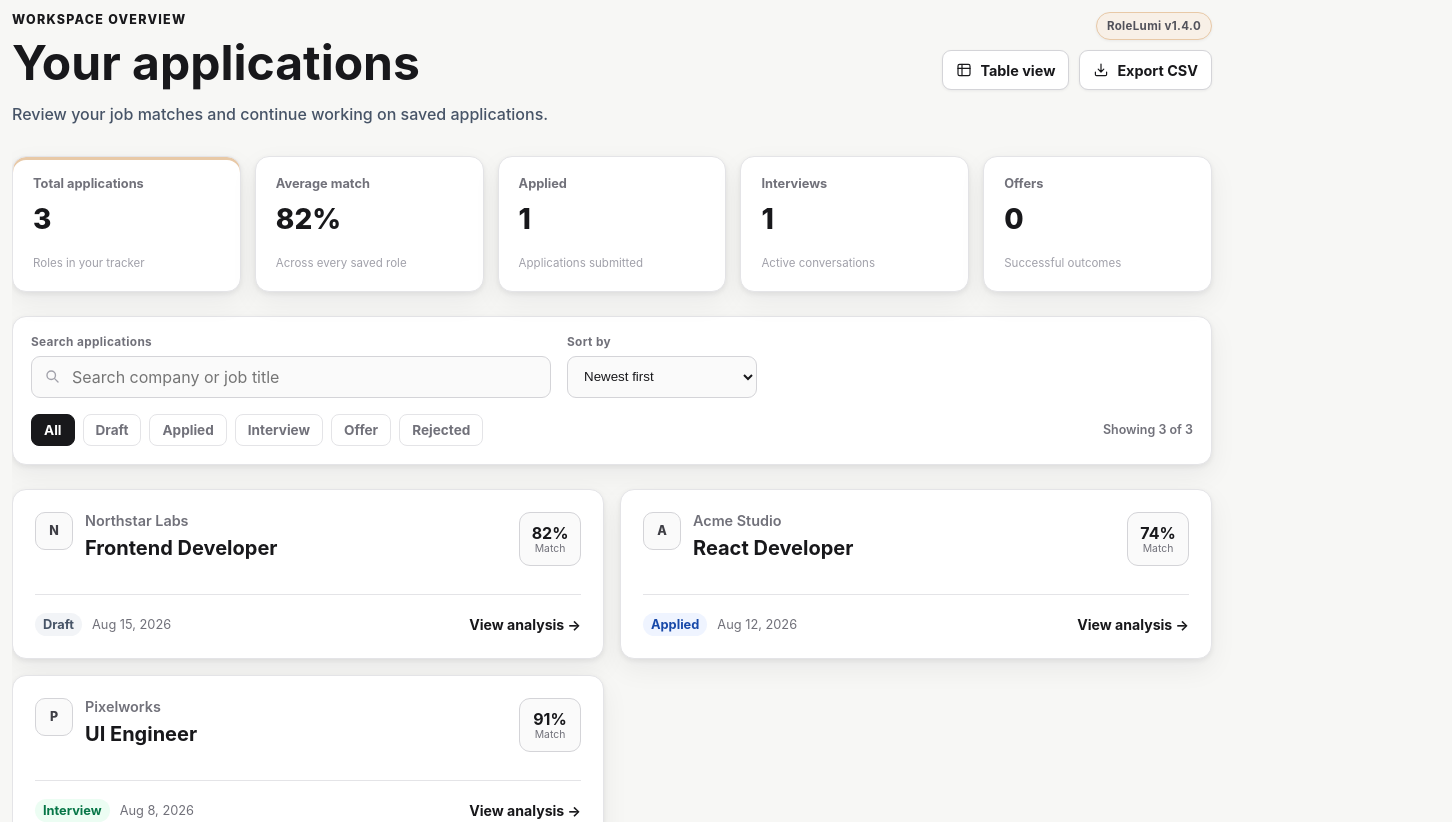
Scenario: DashboardPage › searches and filters saved applications
Expected: the text "Northstar Labs" is shown, [85,512,188,529]
Expected: the text "Showing 3 of 3" is shown, [1103,422,1193,437]
Type "Acme" into the search field labelled "Search applications" at [306, 377], box [61,357,550,397]
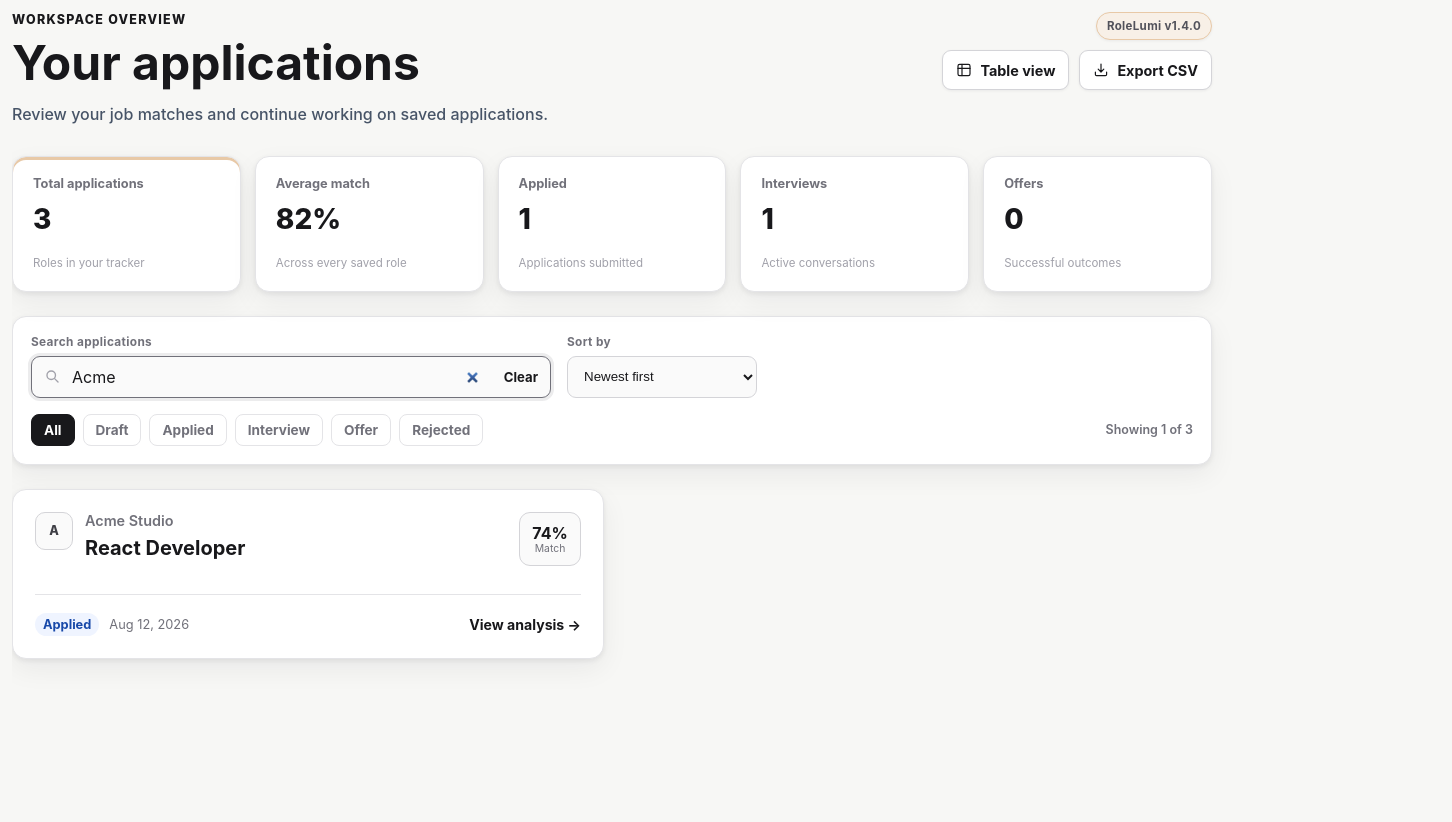
Now the text "Showing 1 of 3" is shown, box [1106,422,1193,437]
Now the text "Northstar Labs" is gone
Now the text "Pixelworks" is gone
Click the button "Clear" at [521, 377], box [492,361,550,393]
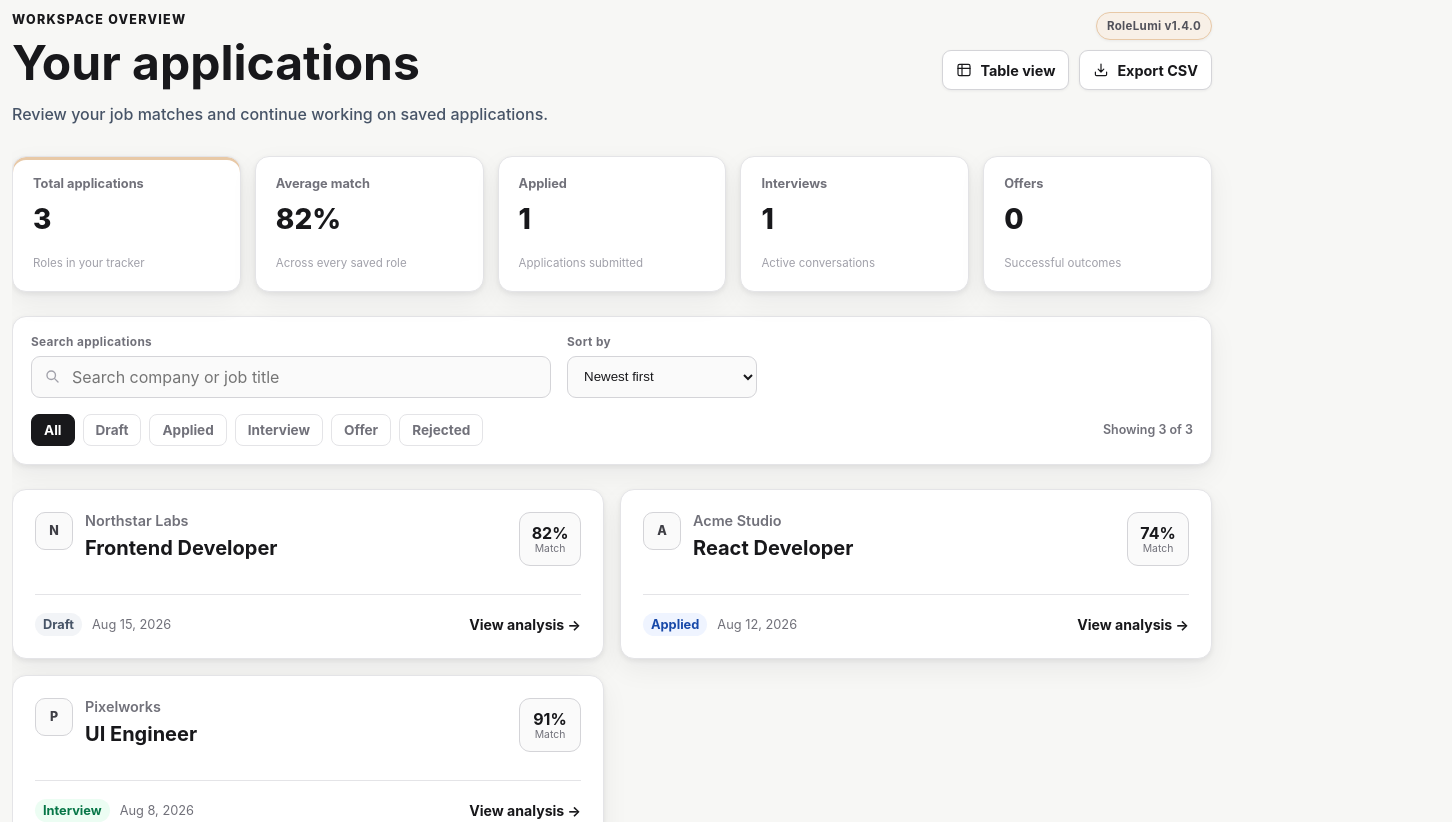
Click the button "Applied" at [188, 430], box [150,414,227,446]
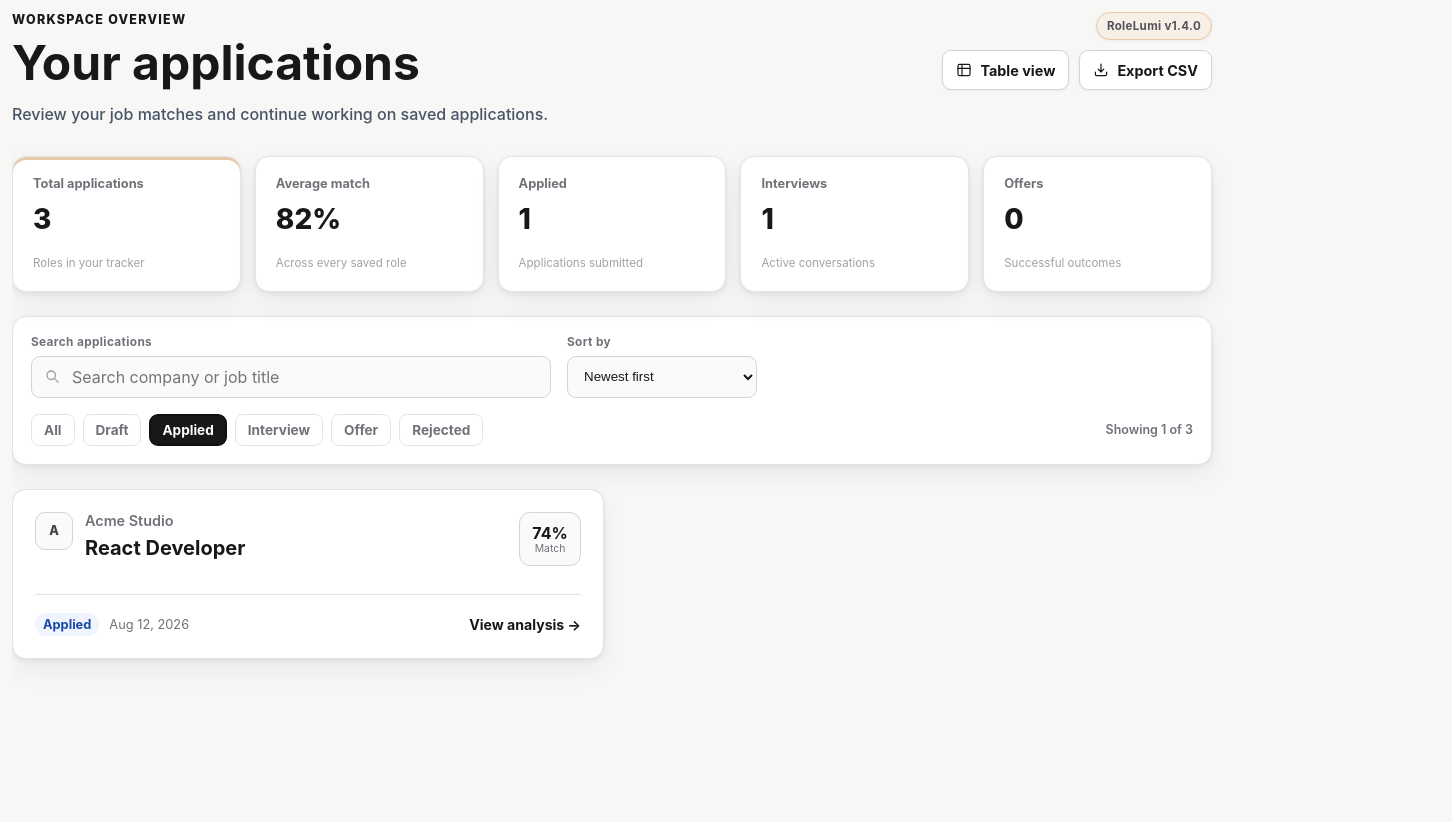
Expected: the text "Acme Studio" is shown, [85,512,174,529]
Now the text "Northstar Labs" is gone
Now the text "Pixelworks" is gone
